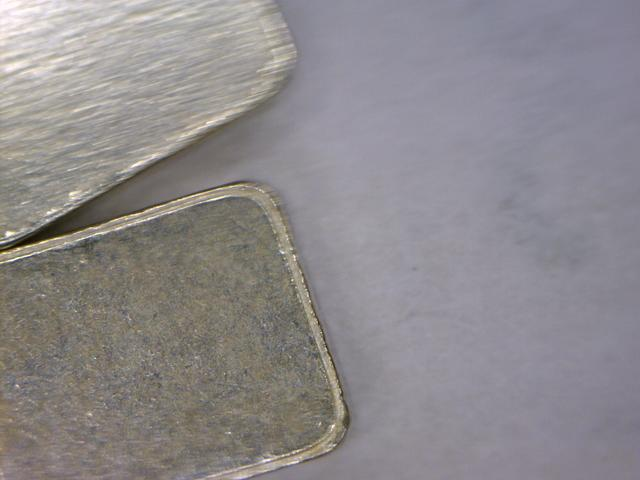nok: (5, 174, 360, 477)
